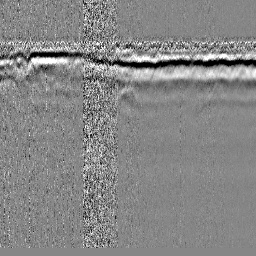cavity: (114, 86, 141, 105)
